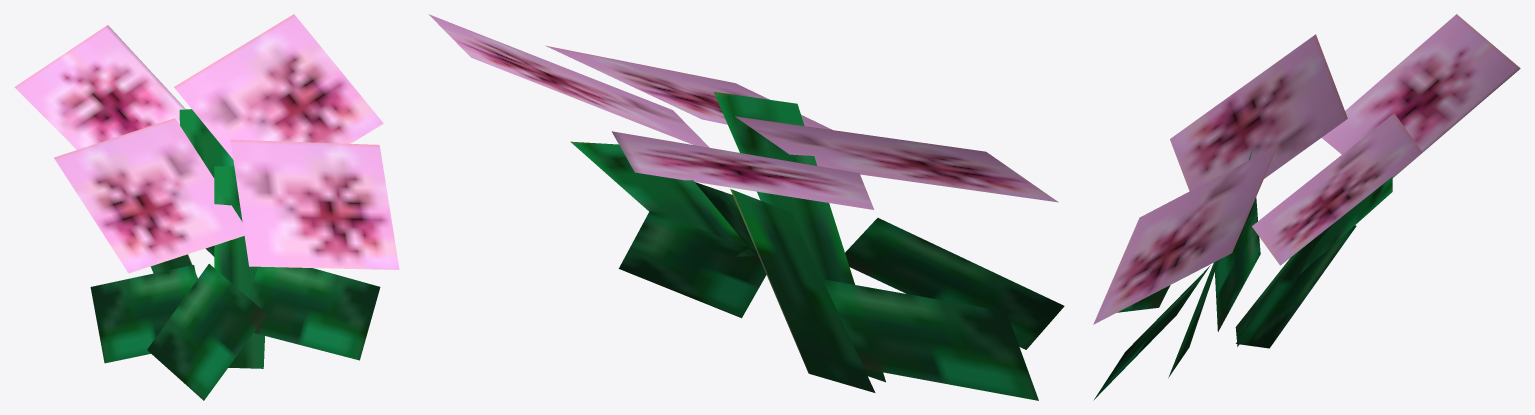
Rendered from flw_yuri_pi.dae.
3 renders of one model, left to right at view 1: azimuth 30°, elevation 25°; view 2: azimuth 150°, elevation 25°; view 3: azimuth 270°, elevation 25°, orthographic. The views are drawn at different scales.
Parts seen in each view (by area): view 1: flw_yuri_pi; view 2: flw_yuri_pi; view 3: flw_yuri_pi.
Part boxes in pixels (x1=…): flw_yuri_pi: x1=14, y1=14, x2=399, y2=400; flw_yuri_pi: x1=428, y1=14, x2=1064, y2=400; flw_yuri_pi: x1=1093, y1=14, x2=1520, y2=400.
Size of the model in its own units: 31.8 by 23.79 by 30.05.
1 material, 1 textured.
